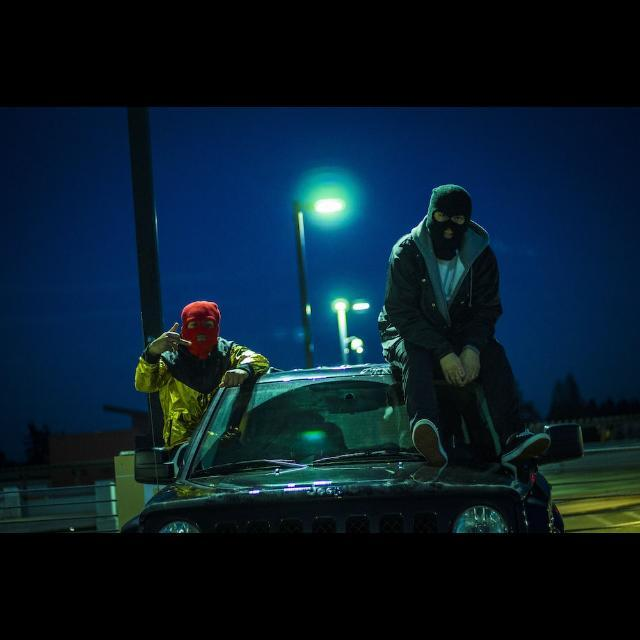criminal: (379, 183, 555, 468), (134, 299, 272, 478)
